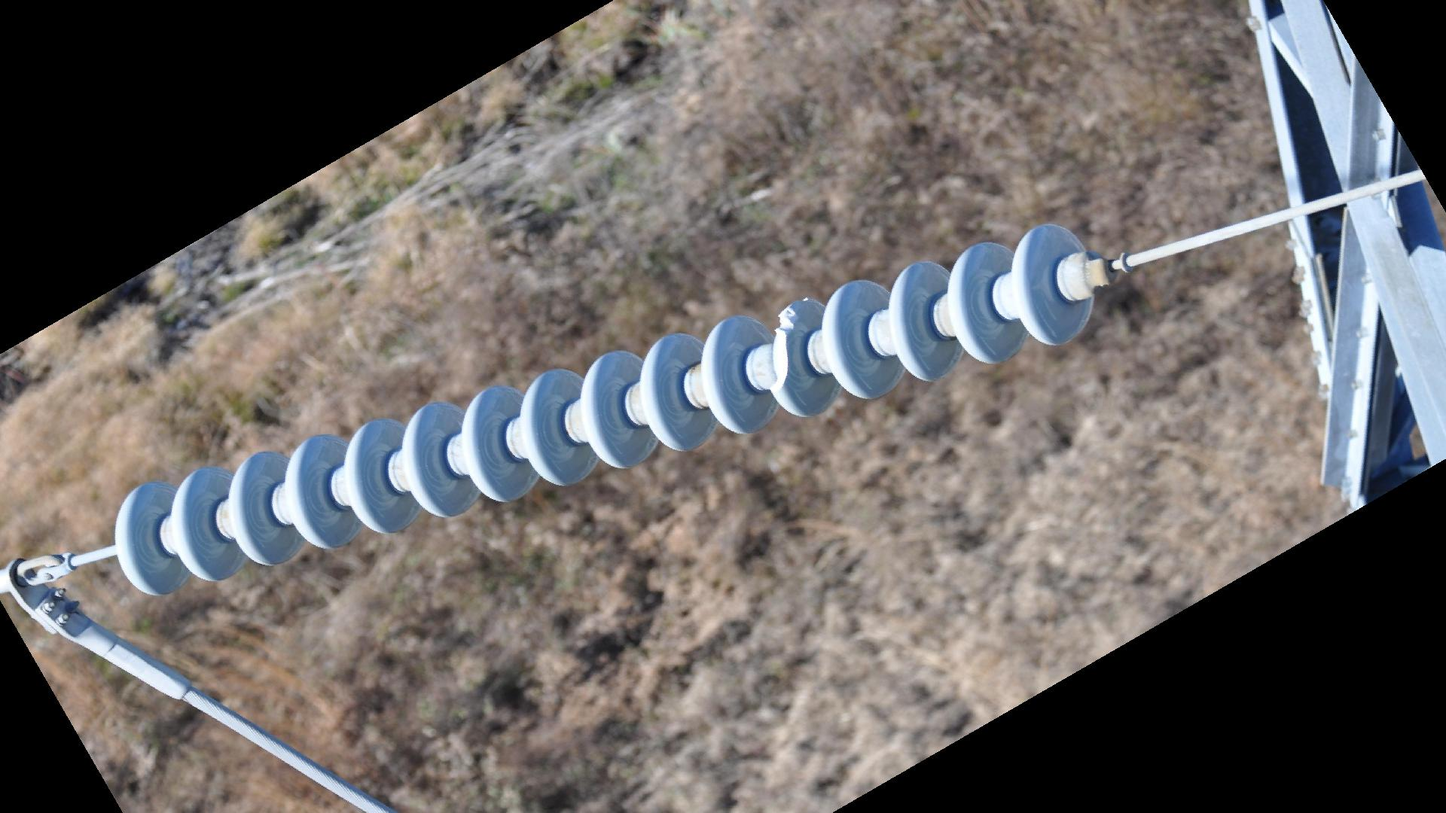insulator: (108, 218, 1099, 604)
insulator_breakage: (763, 292, 818, 399)
